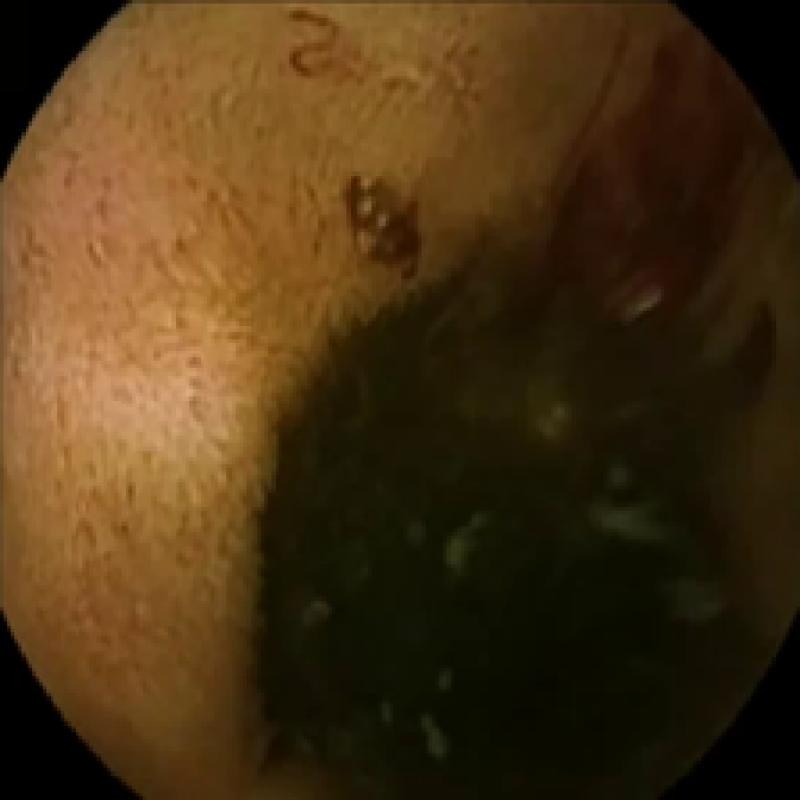bleeding: (554, 39, 775, 416), (350, 179, 424, 272)
